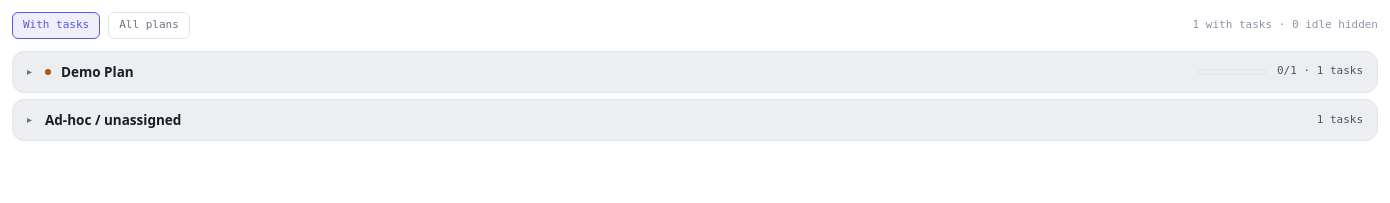
Test case: renders the Ad-hoc bucket and expands it
This screenshot has width=1390, height=203.
Expected: the element with test id "task-tree-adhoc" is shown, top-left (12, 99), bottom-right (1378, 141)
Expected: the text "Fix a typo" is not shown
Click the text "Ad-hoc / unassigned".
click(113, 120)  # box top-left (45, 111), bottom-right (181, 129)
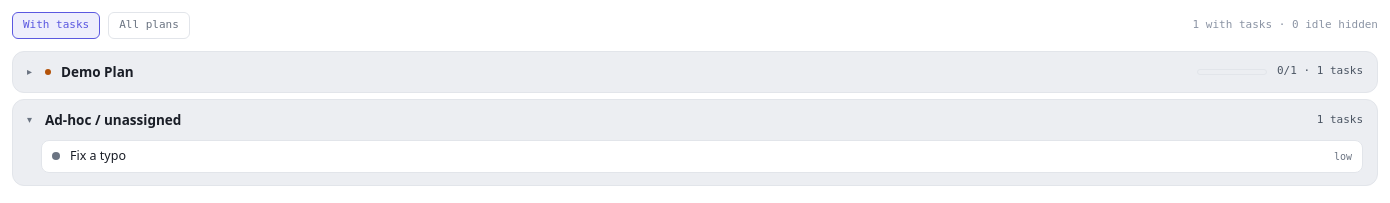
Expected: the text "Fix a typo" is shown, top-left (70, 147), bottom-right (126, 164)
